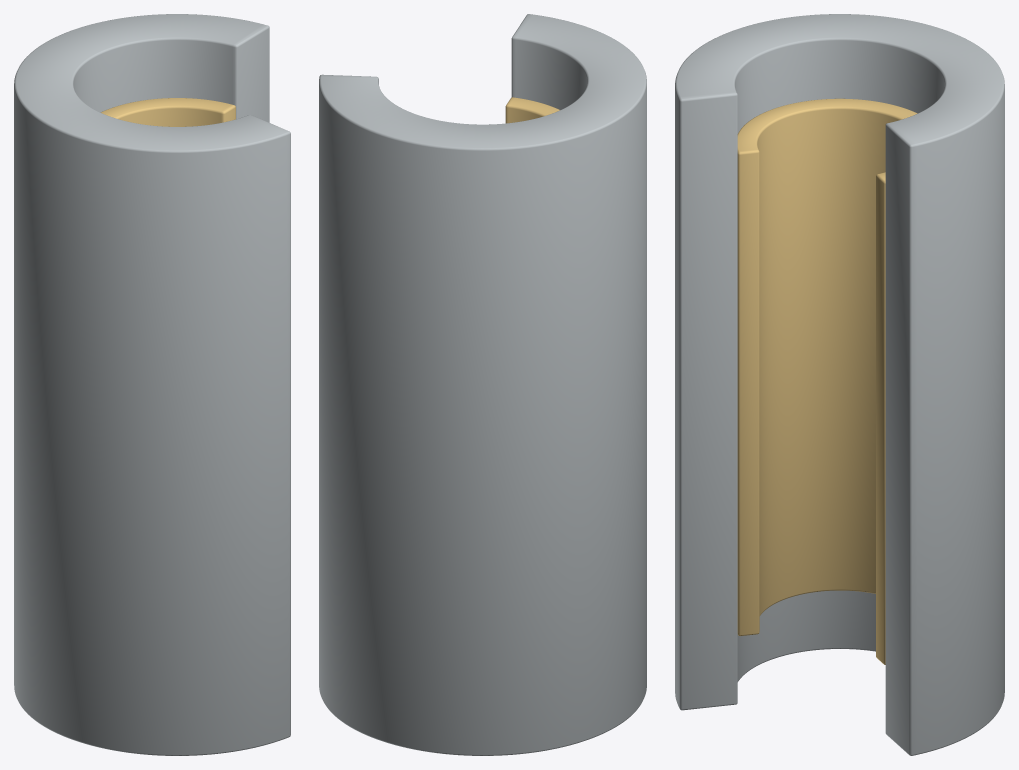
Rendered from sliding-sleeve.glb.
3 views of the same model, side by side, from view 1: azimuth 30°, elevation 25°; view 2: azimuth 150°, elevation 25°; view 3: azimuth 270°, elevation 25° (orthographic).
Visible parts, largest first — view 1: Sliding sleeve housing, Inner sleeve; view 2: Sliding sleeve housing, Inner sleeve; view 3: Sliding sleeve housing, Inner sleeve.
Boxes of the visible parts, x1,y1,x2,y2 form: Sliding sleeve housing: [14, 14, 290, 755]; Inner sleeve: [101, 98, 235, 126]; Sliding sleeve housing: [319, 14, 646, 755]; Inner sleeve: [505, 97, 559, 123]; Sliding sleeve housing: [675, 14, 1004, 755]; Inner sleeve: [737, 98, 917, 664].
Bounding box in the file's own units: 1.67 × 3.6 × 1.76.
